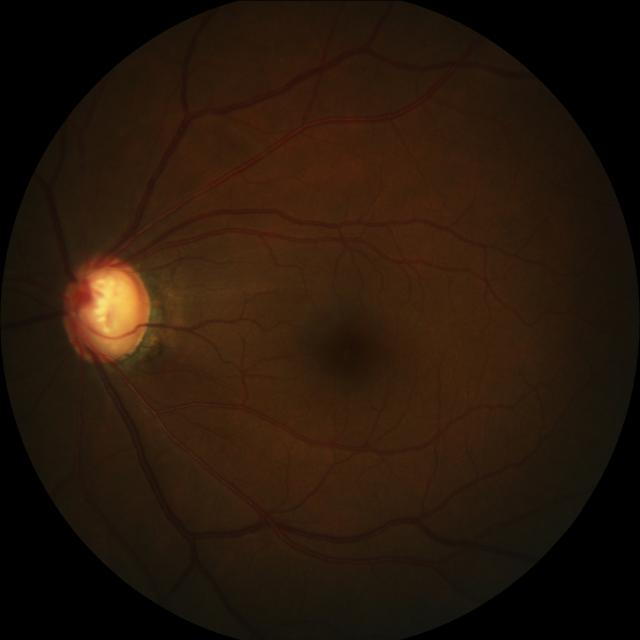OC: (71, 265, 141, 350)
OD: (62, 256, 149, 358)
